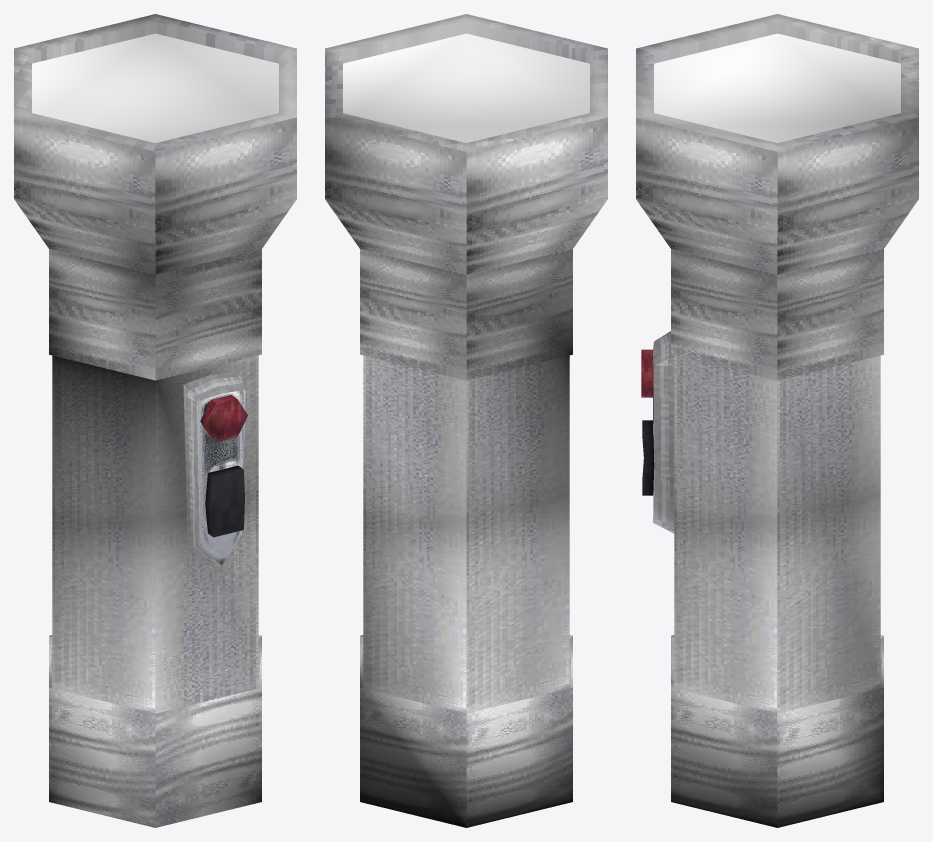
File: ps1_linterna.glb
3 renders of one model, left to right at view 1: azimuth 30°, elevation 25°; view 2: azimuth 150°, elevation 25°; view 3: azimuth 270°, elevation 25°, orthographic.
Visible parts, largest first — view 1: Cylinder.002; view 2: Cylinder.002; view 3: Cylinder.002.
Part boxes in pixels (x1,y1,x2,y2): Cylinder.002: (14,14,296,827); Cylinder.002: (325,14,607,827); Cylinder.002: (636,14,918,827).
Bounding box in the file's own units: 2.65 × 6.21 × 2.3.
Materials: 1 (1 with a texture image).
